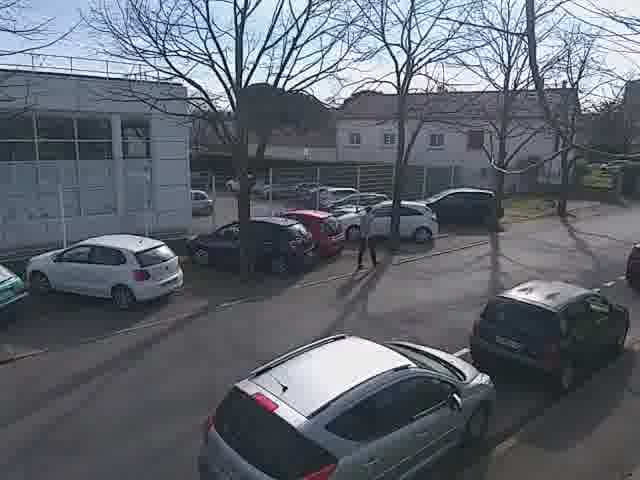persona: (348, 196, 383, 276)
